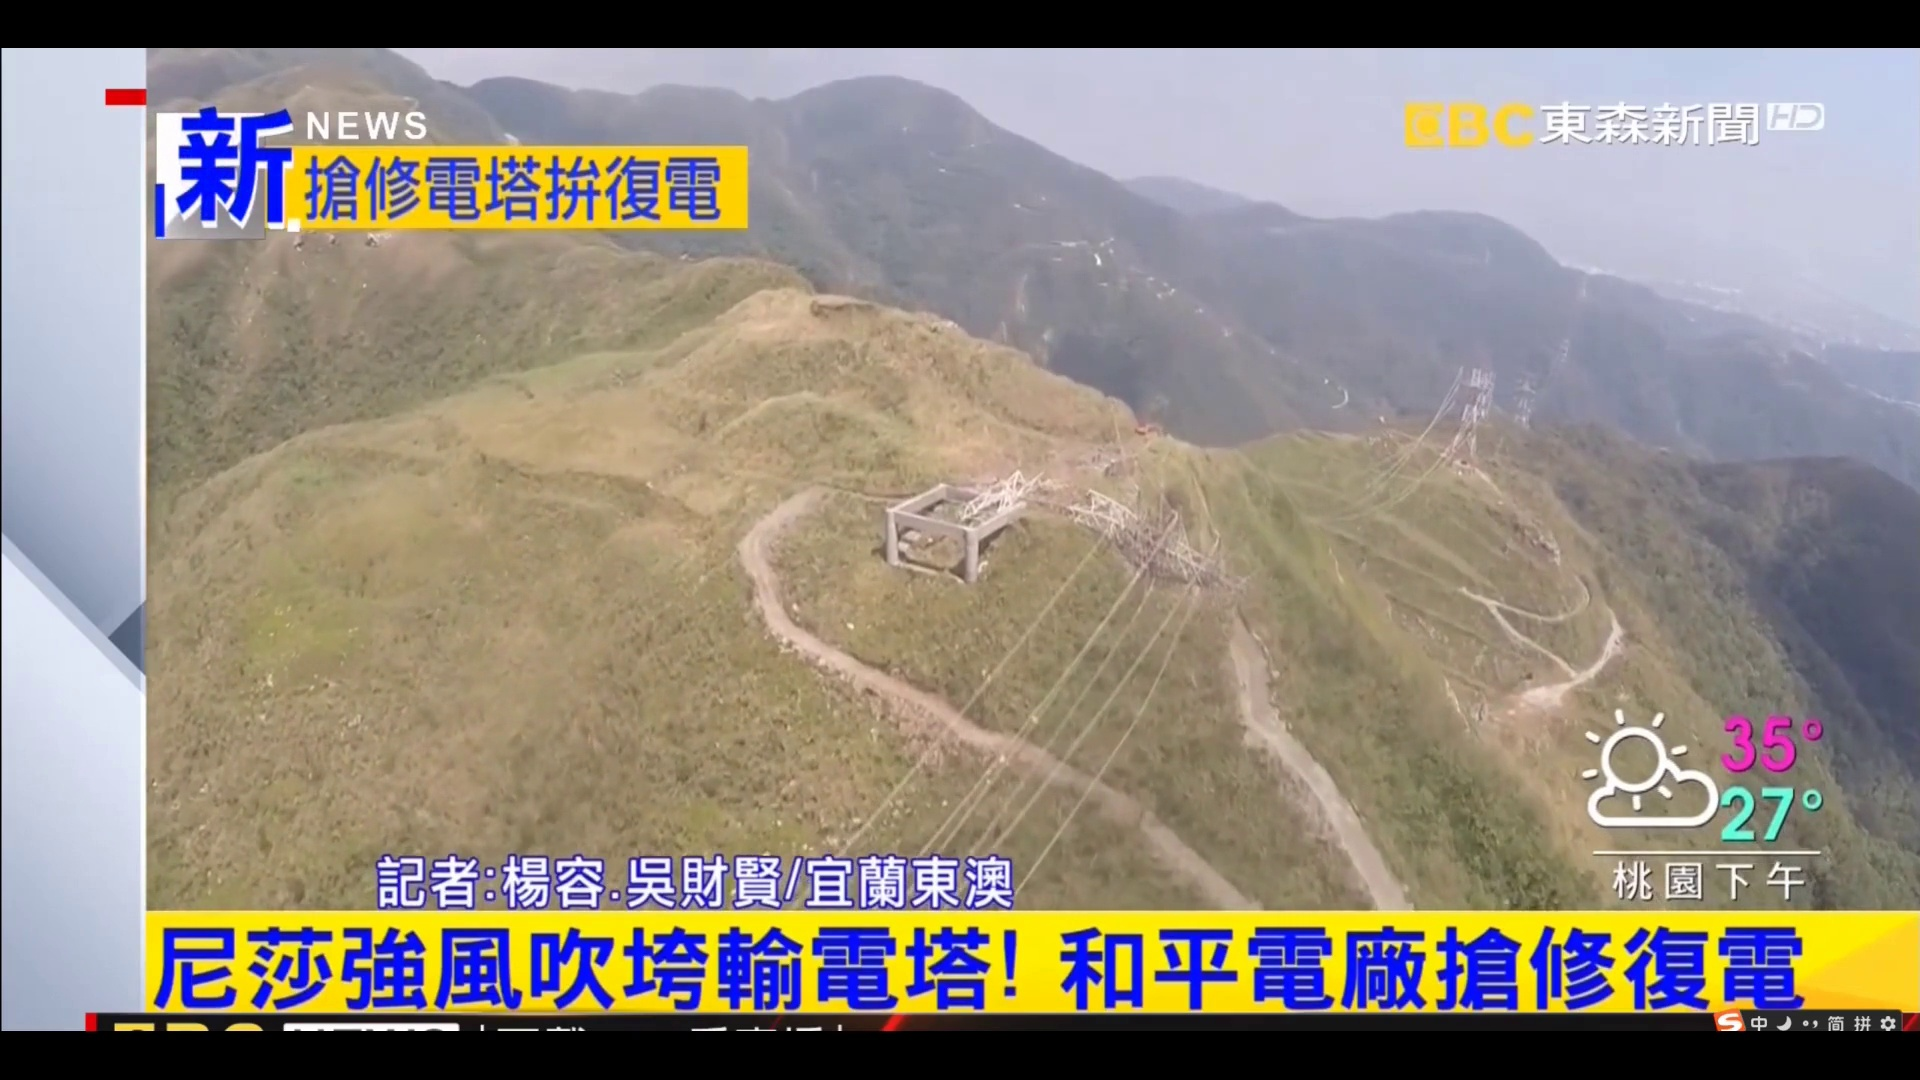tower_down: (985, 458, 1244, 597)
